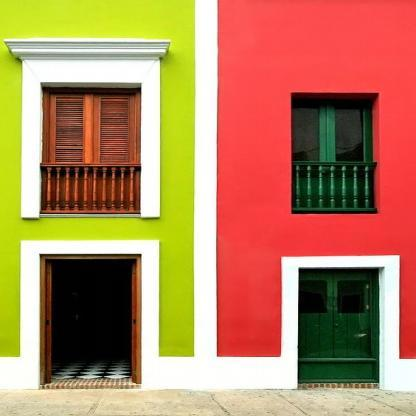Building Outline: (1, 0, 415, 390)
Cornice: (3, 38, 171, 58)
Door: (41, 255, 140, 386)
Facade: (1, 0, 415, 390)
Floor: (0, 0, 415, 219)
Floor Slab: (0, 218, 415, 227)
Ground Floor: (0, 227, 415, 390)
Window: (299, 268, 381, 359), (43, 88, 141, 162), (291, 98, 372, 163)
Window Hole: (40, 82, 141, 217), (292, 93, 379, 215), (299, 266, 382, 383)
Window Outline: (22, 58, 161, 218)
